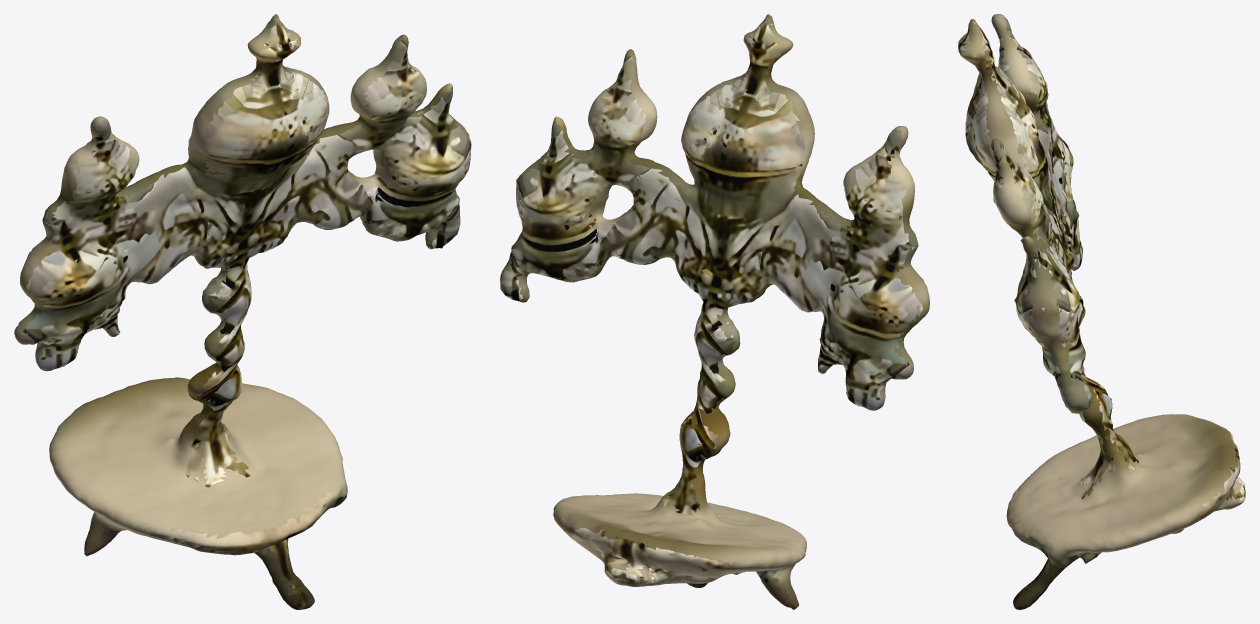
Rendered from kfl-2296.glb.
3 views of the same model, side by side, from view 1: azimuth 30°, elevation 25°; view 2: azimuth 150°, elevation 25°; view 3: azimuth 270°, elevation 25° (orthographic). The views are drawn at different scales.
Visible parts, largest first — view 1: kfl-2296; view 2: kfl-2296; view 3: kfl-2296.
Part boxes in pixels (x1,y1,x2,y2): kfl-2296: (14,14,471,609); kfl-2296: (500,14,929,609); kfl-2296: (958,14,1245,609).
Size of the model in its own units: 0.7477 by 0.9862 by 0.4539.
Materials: 4 (4 with a texture image).
